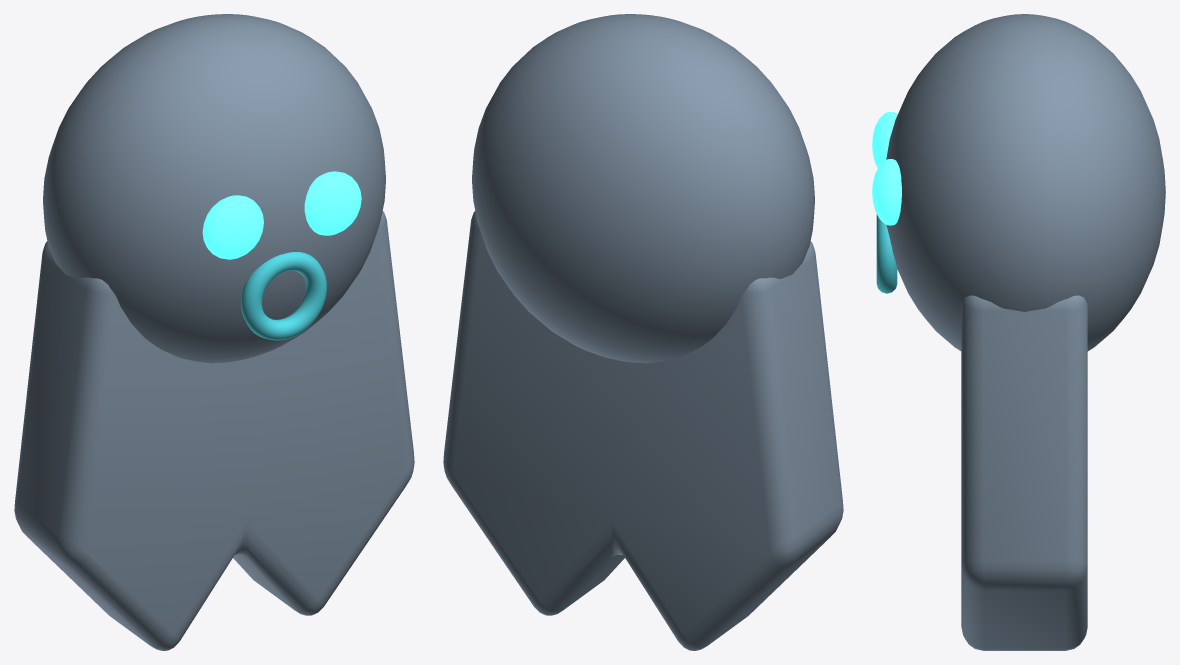
File: wisp_v8.glb
3 renders of one model, left to right at view 1: azimuth 30°, elevation 25°; view 2: azimuth 150°, elevation 25°; view 3: azimuth 270°, elevation 25°, orthographic.
Visible parts, largest first — view 1: GHOSTLET_BODY_PRIMARY, GHOSTLET_HEAD_PRIMARY, GHOSTLET_MOUTH_ACCENT, EYE_EMISSIVE, EYE_EMISSIVE.001; view 2: GHOSTLET_BODY_PRIMARY, GHOSTLET_HEAD_PRIMARY; view 3: GHOSTLET_HEAD_PRIMARY, GHOSTLET_BODY_PRIMARY, EYE_EMISSIVE.001, GHOSTLET_MOUTH_ACCENT, EYE_EMISSIVE.
Part boxes in pixels (x1,y1,x2,y2): GHOSTLET_BODY_PRIMARY: (14,211,414,650); GHOSTLET_HEAD_PRIMARY: (43,14,385,363); GHOSTLET_MOUTH_ACCENT: (241,252,326,340); EYE_EMISSIVE: (202,195,263,259); EYE_EMISSIVE.001: (304,171,361,235); GHOSTLET_BODY_PRIMARY: (443,211,843,650); GHOSTLET_HEAD_PRIMARY: (472,14,814,363); GHOSTLET_HEAD_PRIMARY: (886,14,1165,351); GHOSTLET_BODY_PRIMARY: (961,295,1087,650); EYE_EMISSIVE.001: (872,159,901,225); GHOSTLET_MOUTH_ACCENT: (876,214,897,293); EYE_EMISSIVE: (872,111,897,168).
Bounding box in the file's own units: 1.09 × 1.73 × 0.79.
